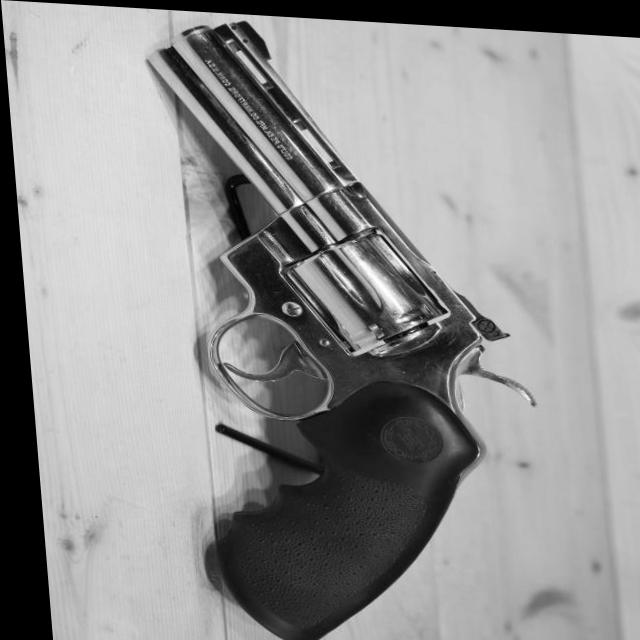handgun: (88, 4, 549, 640)
